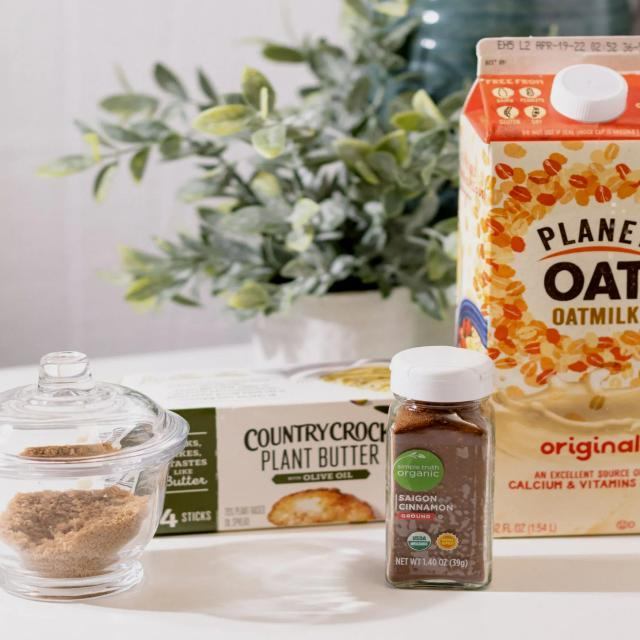Planet Oat Original: (445, 28, 640, 550)
